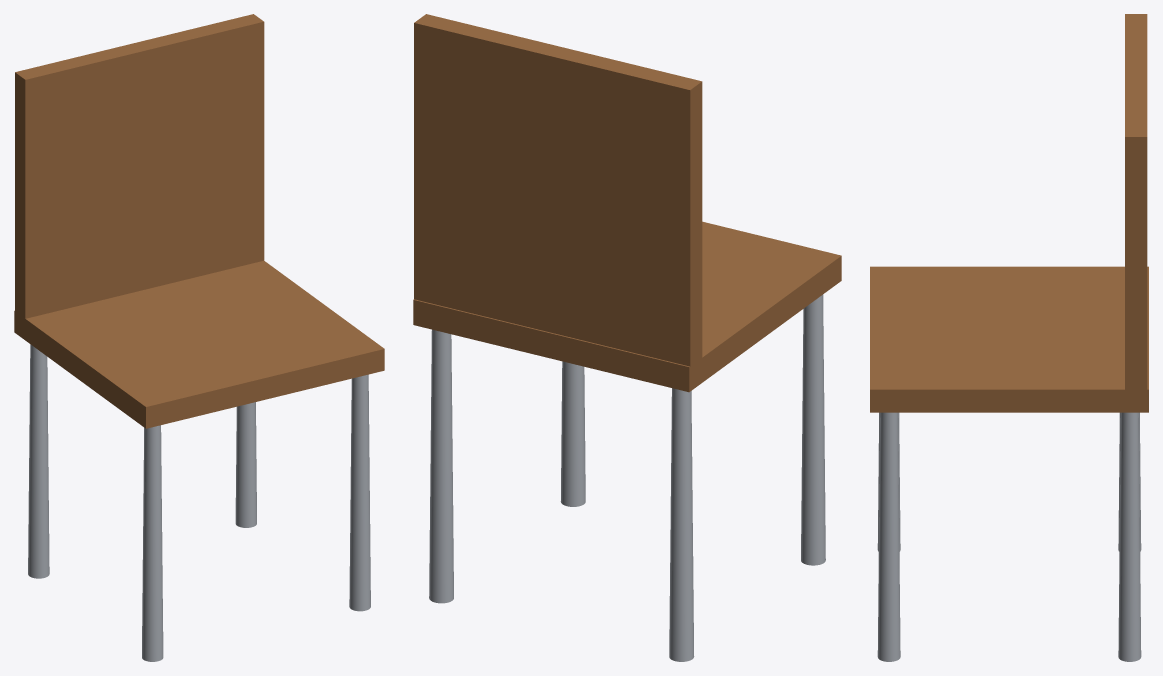
File: chair.glb
3 views of the same model, side by side, from view 1: azimuth 30°, elevation 25°; view 2: azimuth 150°, elevation 25°; view 3: azimuth 270°, elevation 25° (orthographic). The views are drawn at different scales.
Parts seen in each view (by area): view 1: Back, Seat, Leg 4, Leg 3, Leg 1, Leg 2; view 2: Back, Seat, Leg 2, Leg 1, Leg 3, Leg 4; view 3: Seat, Back, Leg 2, Leg 4, Leg 1, Leg 3.
Part boxes in pixels (left/top/right/bottom): Back: left=15, top=14, right=264, bottom=318; Seat: left=14, top=260, right=384, bottom=428; Leg 4: left=349, top=374, right=370, bottom=611; Leg 3: left=142, top=425, right=163, bottom=661; Leg 1: left=28, top=344, right=49, bottom=578; Leg 2: left=235, top=402, right=256, bottom=527; Back: left=414, top=14, right=702, bottom=366; Seat: left=413, top=221, right=841, bottom=392; Leg 2: left=429, top=329, right=453, bottom=603; Leg 1: left=669, top=388, right=694, bottom=661; Leg 3: left=801, top=294, right=825, bottom=565; Leg 4: left=560, top=361, right=585, bottom=506; Seat: left=870, top=266, right=1148, bottom=412; Back: left=1125, top=14, right=1147, bottom=389; Leg 2: left=1118, top=412, right=1141, bottom=661; Leg 4: left=877, top=412, right=900, bottom=661; Leg 1: left=1118, top=412, right=1141, bottom=551; Leg 3: left=877, top=412, right=900, bottom=551.
Bounding box in the file's own units: 0.46 × 0.92 × 0.44.
